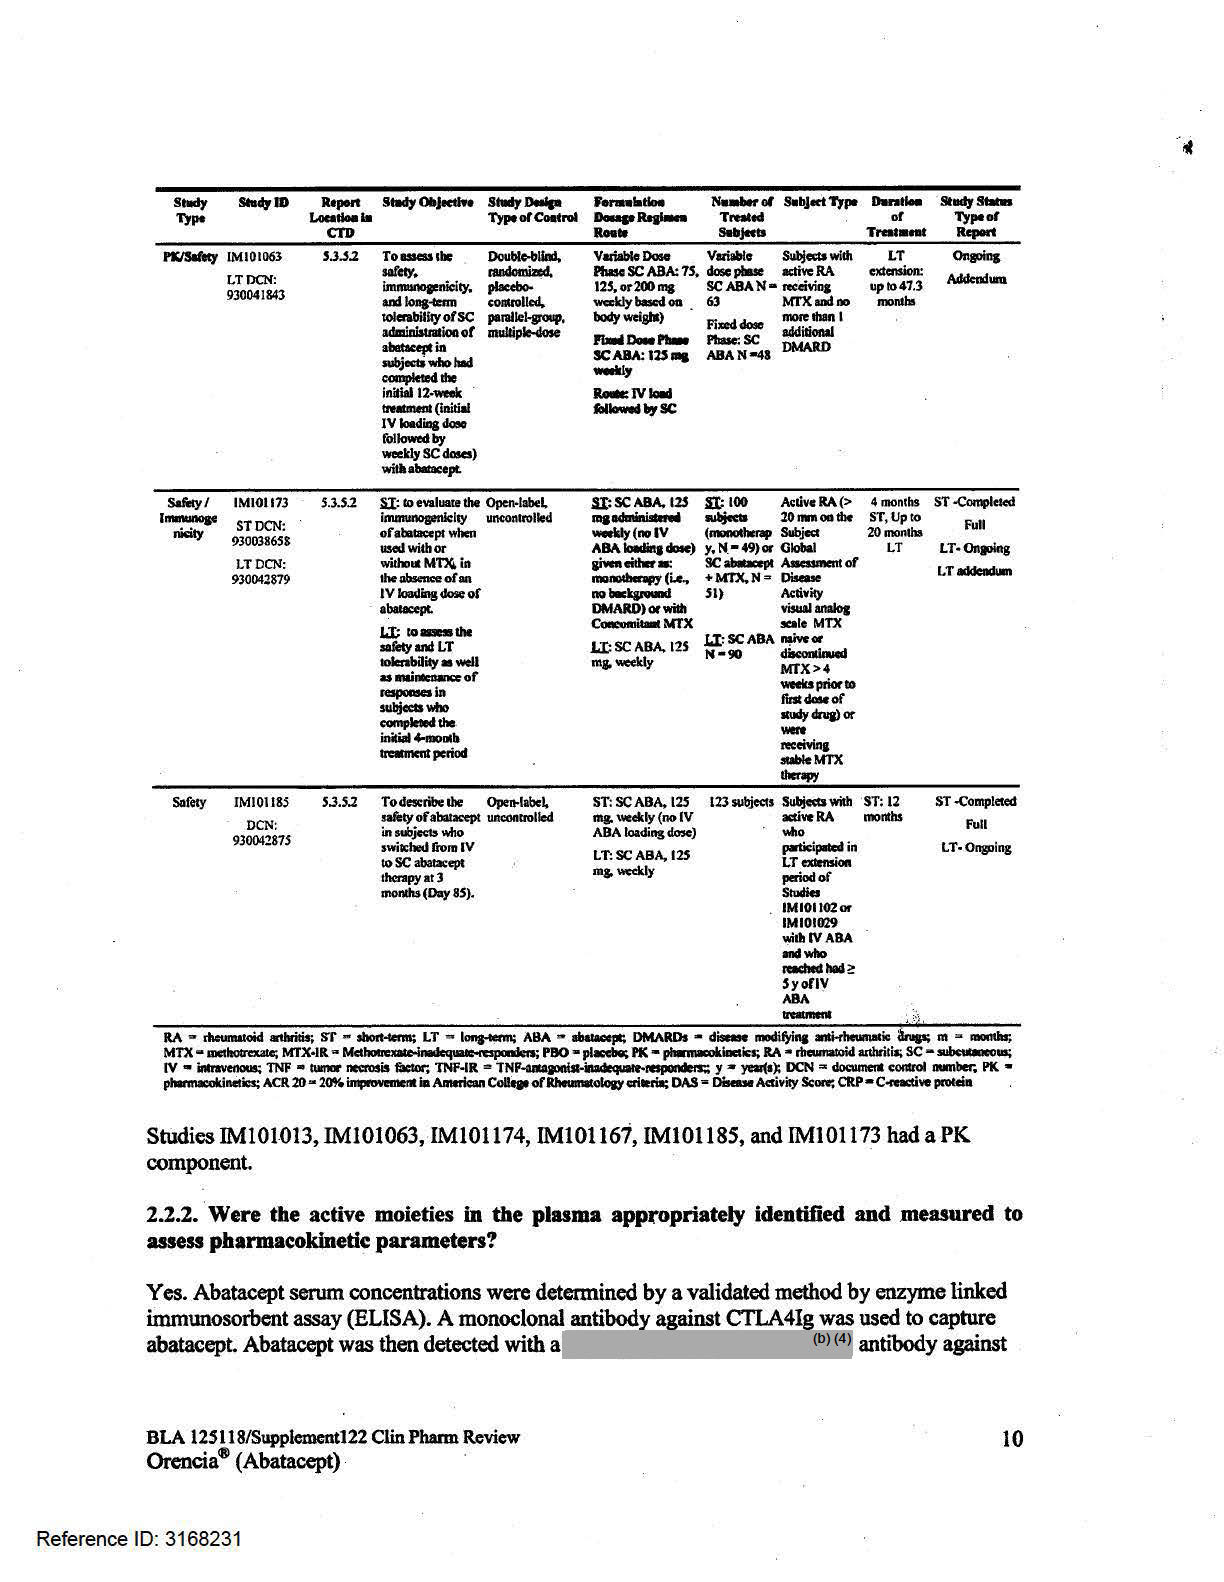partial_lined: (150, 184, 1024, 1029)
